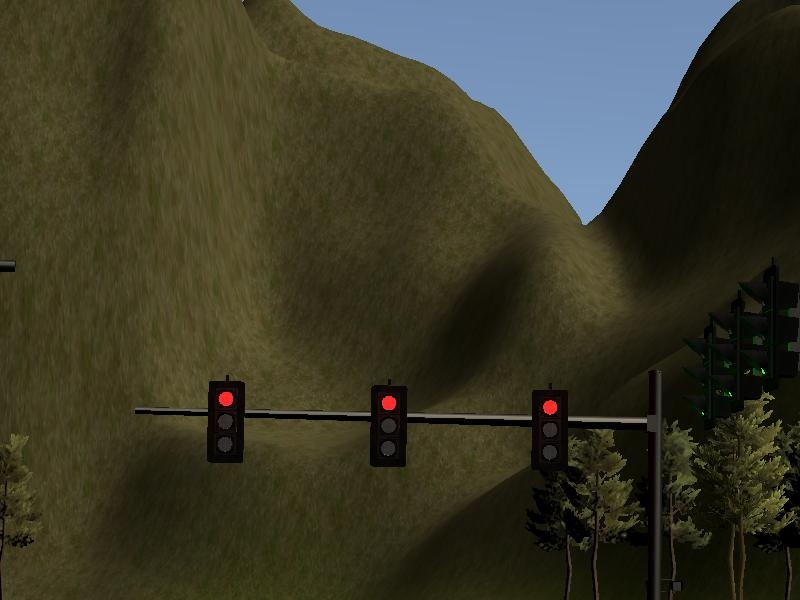red: (530, 390, 567, 474), (368, 387, 405, 466), (208, 382, 244, 462)
